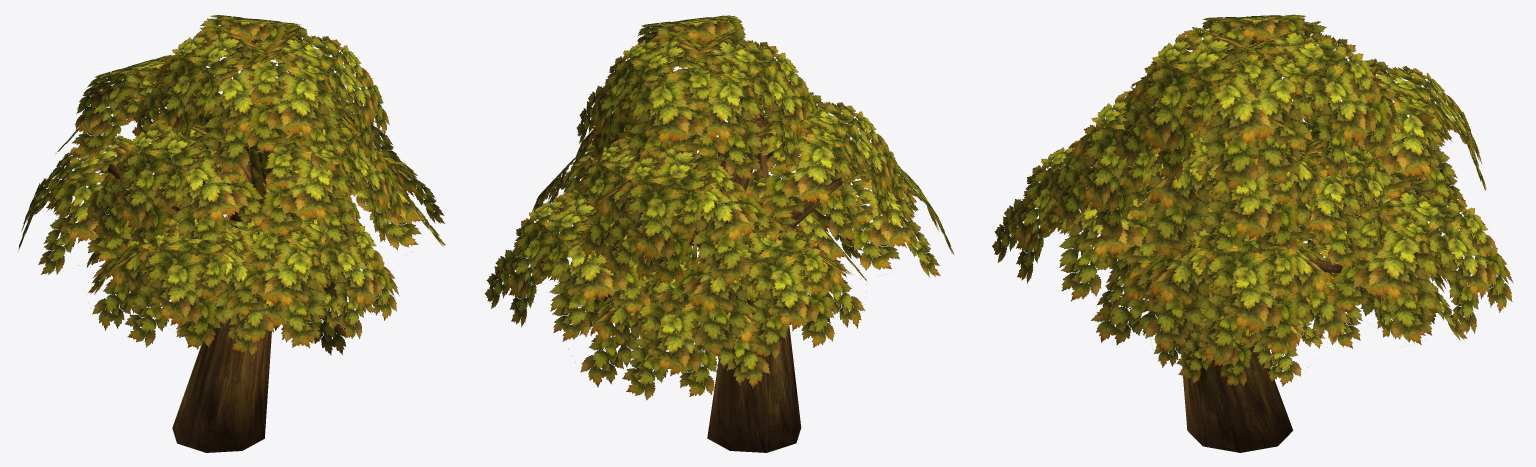
The model's file is obj_macoprtr05.glb.
3 renders of one model, left to right at view 1: azimuth 30°, elevation 25°; view 2: azimuth 150°, elevation 25°; view 3: azimuth 270°, elevation 25°, orthographic. The views are drawn at different scales.
Visible parts, largest first — view 1: part_0; view 2: part_0; view 3: part_0.
Boxes of the visible parts, x1=… form: part_0: x1=18, y1=15, x2=445, y2=452; part_0: x1=484, y1=15, x2=954, y2=452; part_0: x1=992, y1=14, x2=1513, y2=452.
Size of the model in its own units: 9.55 by 9.53 by 10.9.
2 materials, 2 textured.
